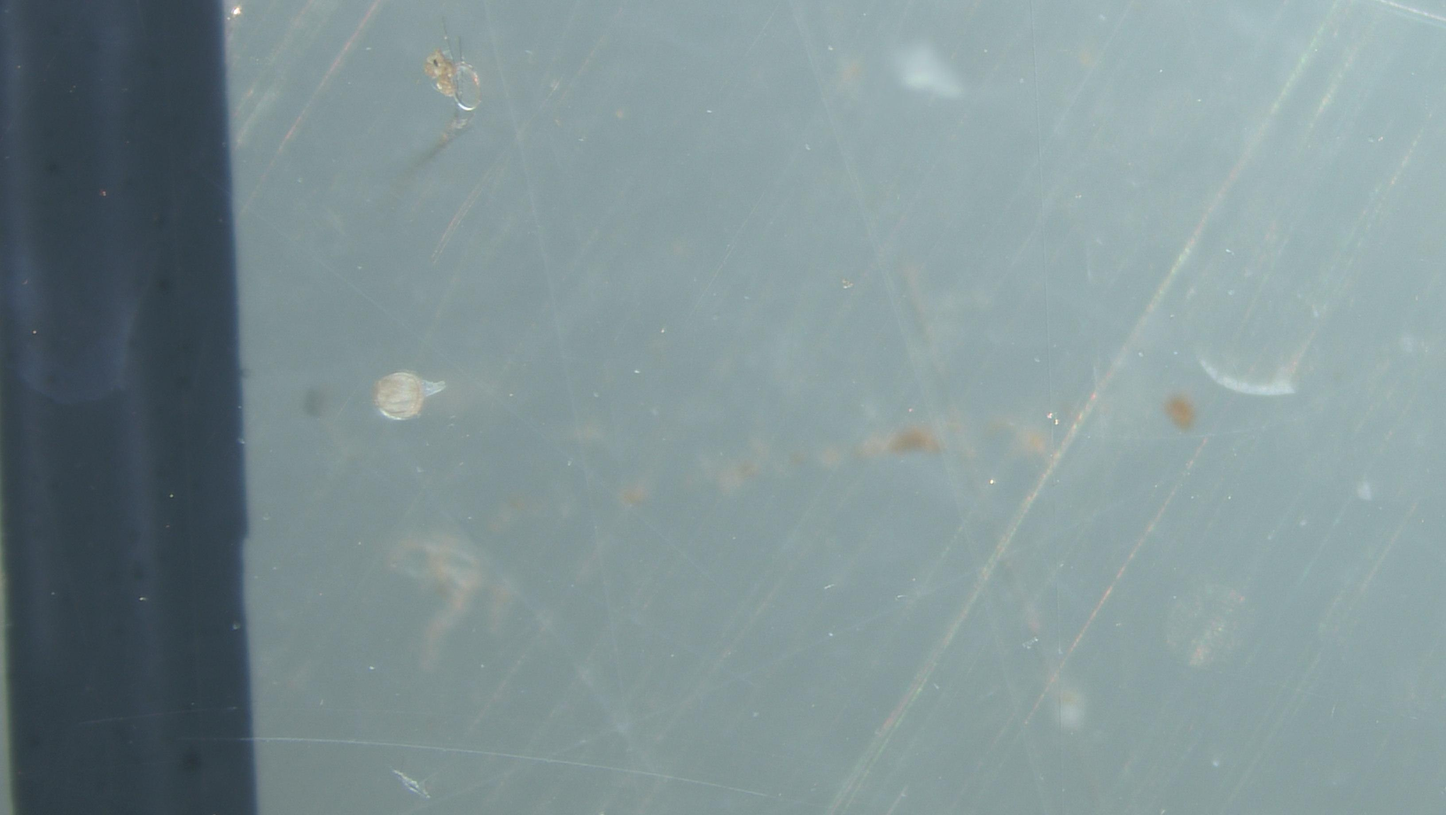live: (374, 372, 425, 420)
